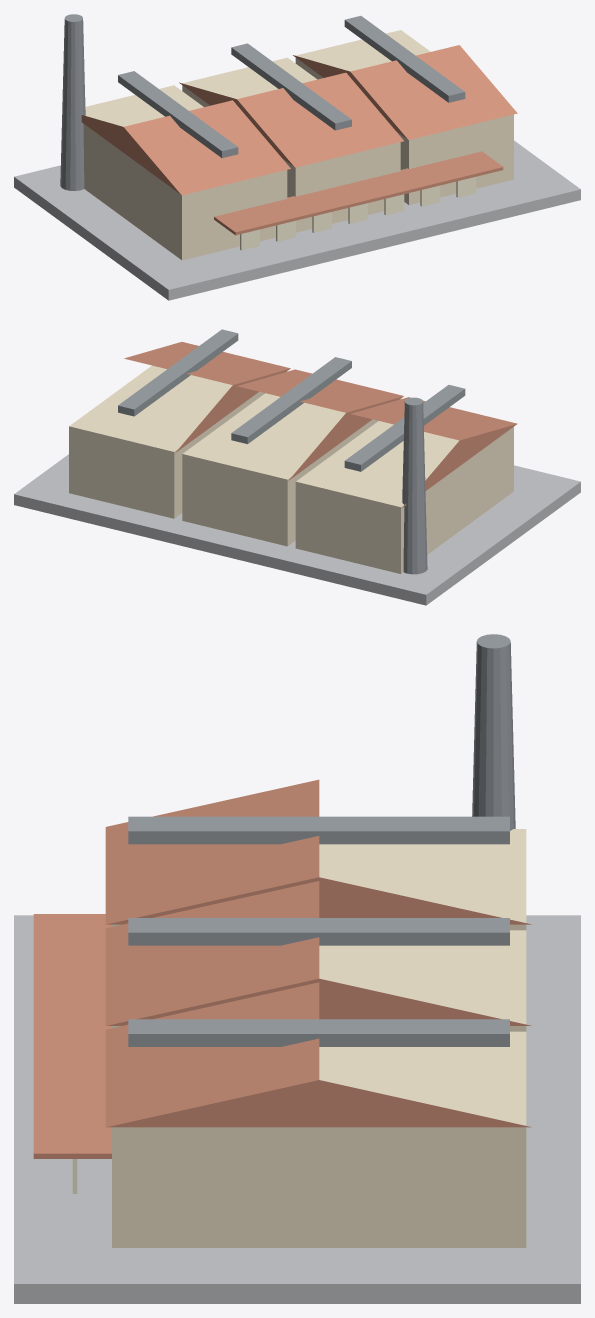
Rendered from lm_111_nha_may_uom_to_det_lua_cuong_hoan_nam_ban_ta_nung_silk_factory.glb.
The picture shows the model from 3 angles, top to bottom: view 1: azimuth 30°, elevation 25°; view 2: azimuth 150°, elevation 25°; view 3: azimuth 270°, elevation 25°; orthographic projection. The views are drawn at different scales.
Parts seen in each view (by area): view 1: lm_111_nha_may_uom_to_det_lua_cuong_hoan_nam_ban_ta_nung_sil; view 2: lm_111_nha_may_uom_to_det_lua_cuong_hoan_nam_ban_ta_nung_sil; view 3: lm_111_nha_may_uom_to_det_lua_cuong_hoan_nam_ban_ta_nung_sil.
Boxes of the visible parts, bbox=[...] form: lm_111_nha_may_uom_to_det_lua_cuong_hoan_nam_ban_ta_nung_sil: bbox=[14, 14, 580, 300]; lm_111_nha_may_uom_to_det_lua_cuong_hoan_nam_ban_ta_nung_sil: bbox=[14, 329, 580, 605]; lm_111_nha_may_uom_to_det_lua_cuong_hoan_nam_ban_ta_nung_sil: bbox=[14, 634, 580, 1303].
Size of the model in its own units: 40 by 16.5 by 26.
